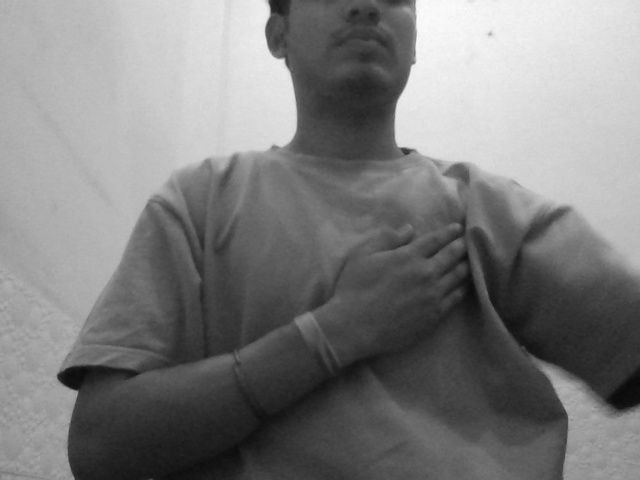Sorry: (311, 169, 501, 372)
